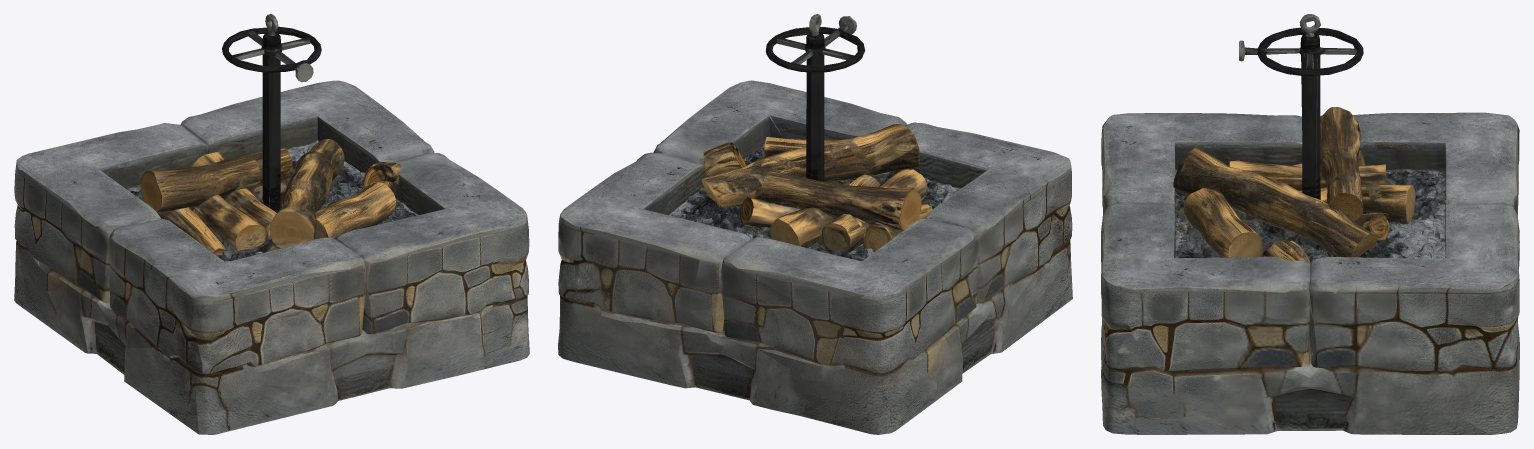
3 views of the same model, side by side, from view 1: azimuth 30°, elevation 25°; view 2: azimuth 150°, elevation 25°; view 3: azimuth 270°, elevation 25° (orthographic). The views are drawn at different scales.
Size of the model in its own units: 1.9 by 1.67 by 1.9.
1 material, 1 textured.
